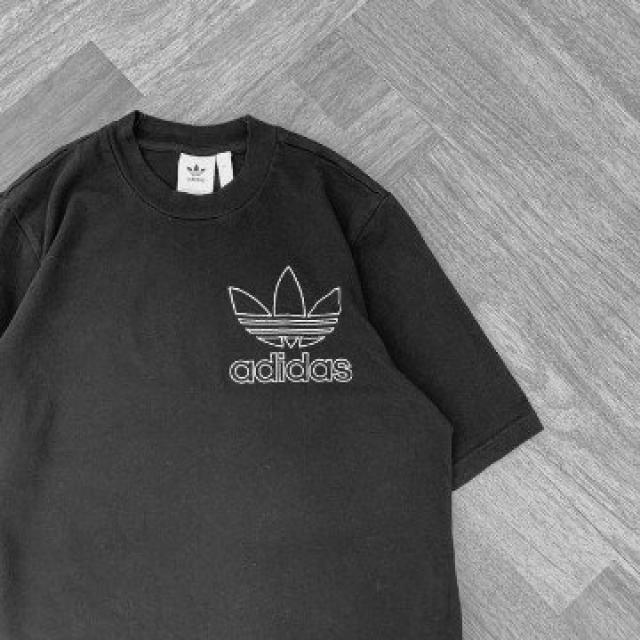Adidas: (217, 256, 354, 354), (182, 151, 214, 178)
